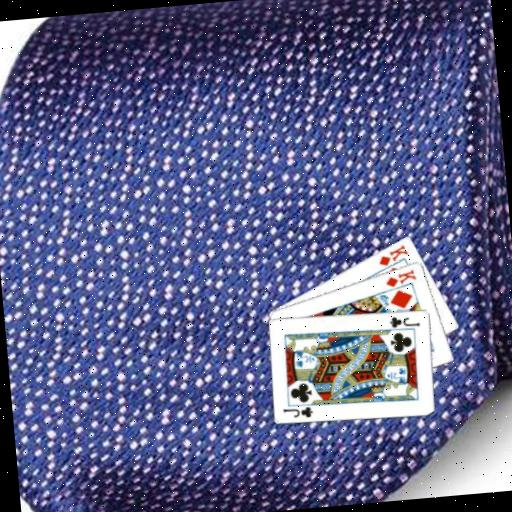JC: (387, 311, 422, 330), (280, 403, 315, 421)
KD: (375, 242, 411, 268), (382, 266, 419, 290)
